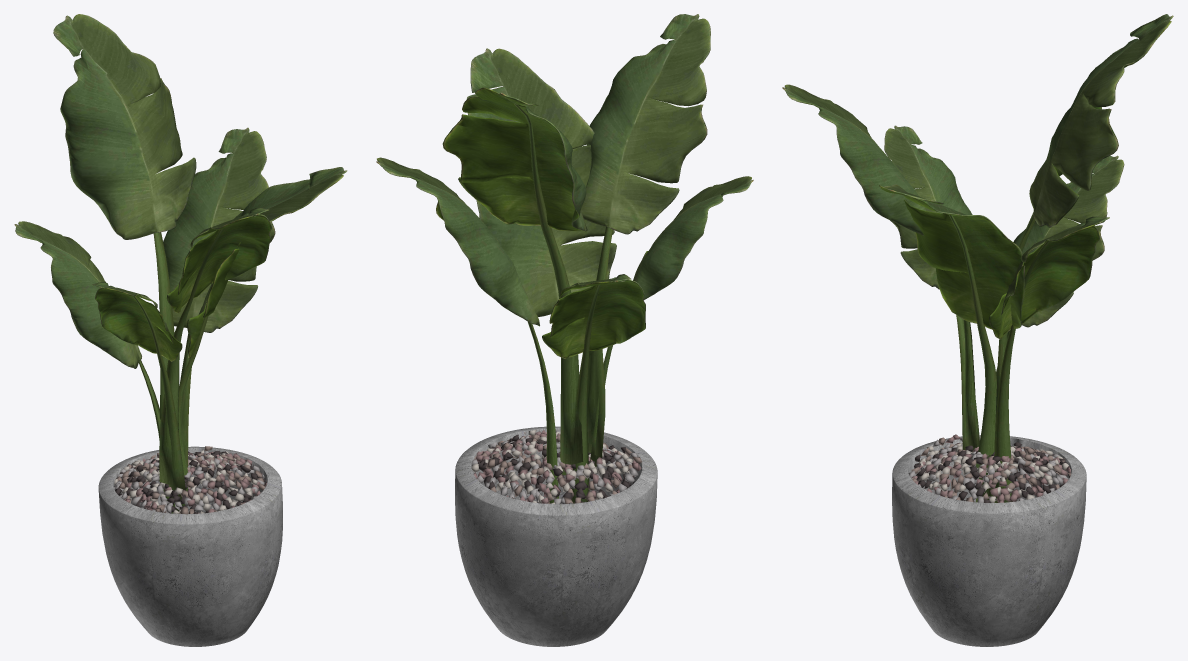
Rendered from plant_12.glb.
3 views of the same model, side by side, from view 1: azimuth 30°, elevation 25°; view 2: azimuth 150°, elevation 25°; view 3: azimuth 270°, elevation 25° (orthographic). The views are drawn at different scales.
Visible parts, largest first — view 1: Plants_VOL01_12; view 2: Plants_VOL01_12; view 3: Plants_VOL01_12.
Boxes of the visible parts, x1=… form: Plants_VOL01_12: x1=14, y1=14, x2=347, y2=646; Plants_VOL01_12: x1=376, y1=14, x2=753, y2=646; Plants_VOL01_12: x1=782, y1=14, x2=1173, y2=646.
Bounding box in the file's own units: 0.4201 × 0.8882 × 0.5347.
9 materials, 4 textured.
